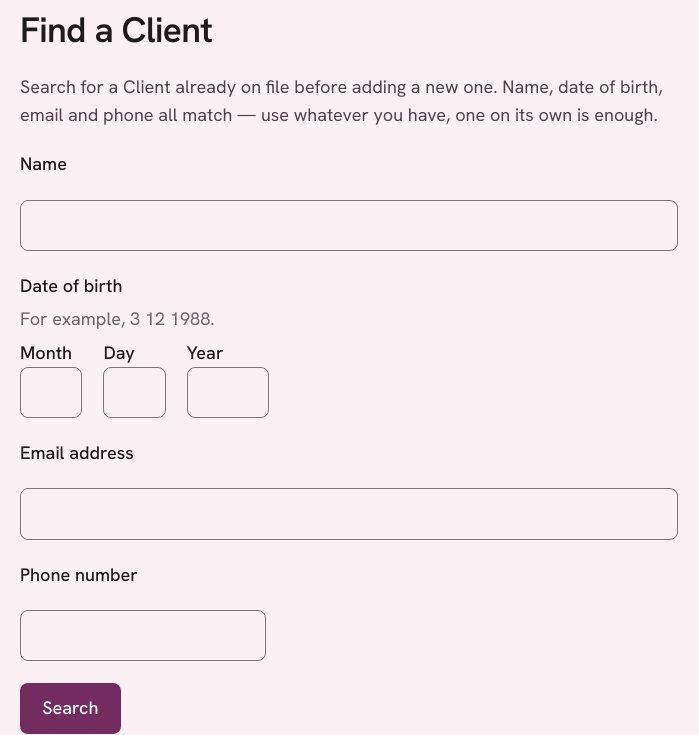
Test case: the search that fronts intake (#498) › surfaces a refusal as a readable message rather than a raw crash -- e.g. a contractor's 403 (#501)
The width and height of the screenshot is (699, 735).
Type "Ada" into the field labelled "Name" at (349,225), box [20, 200, 678, 251]
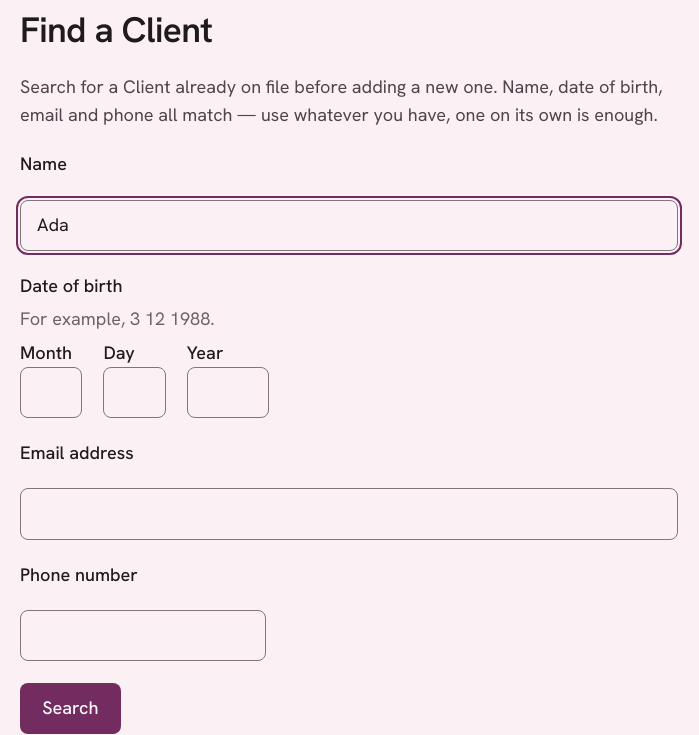
Click the button "Search" at (70,708), box [20, 683, 121, 734]
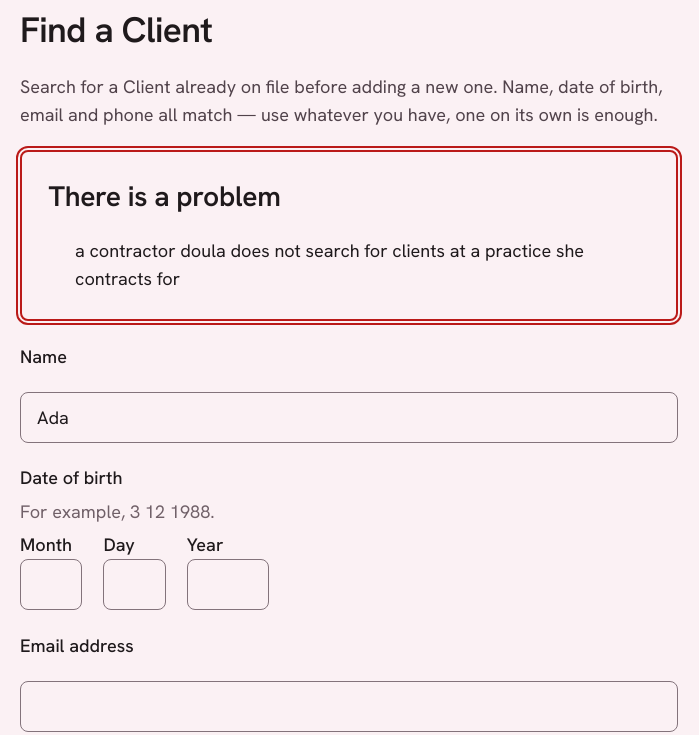
Check: the list item "a contractor doula does not search for clients at a practice she contracts for" is shown, box [75, 237, 649, 293]
